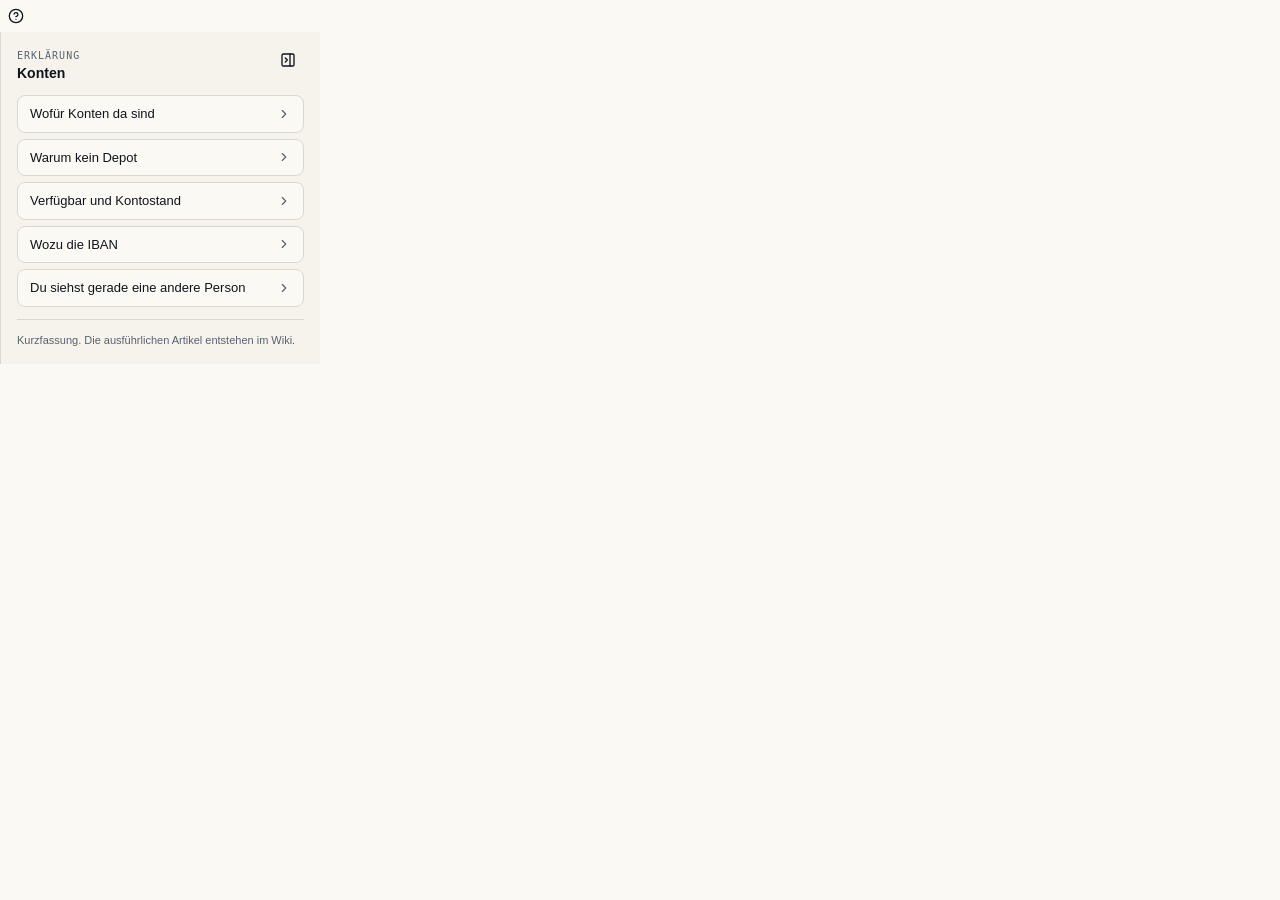
Scenario: the help button › narrow: the open default still opens the sheet, and offers no pin
The image size is (1280, 900).
Click the button named "Hilfe". click: (16, 16)
box: [0, 0, 32, 32]
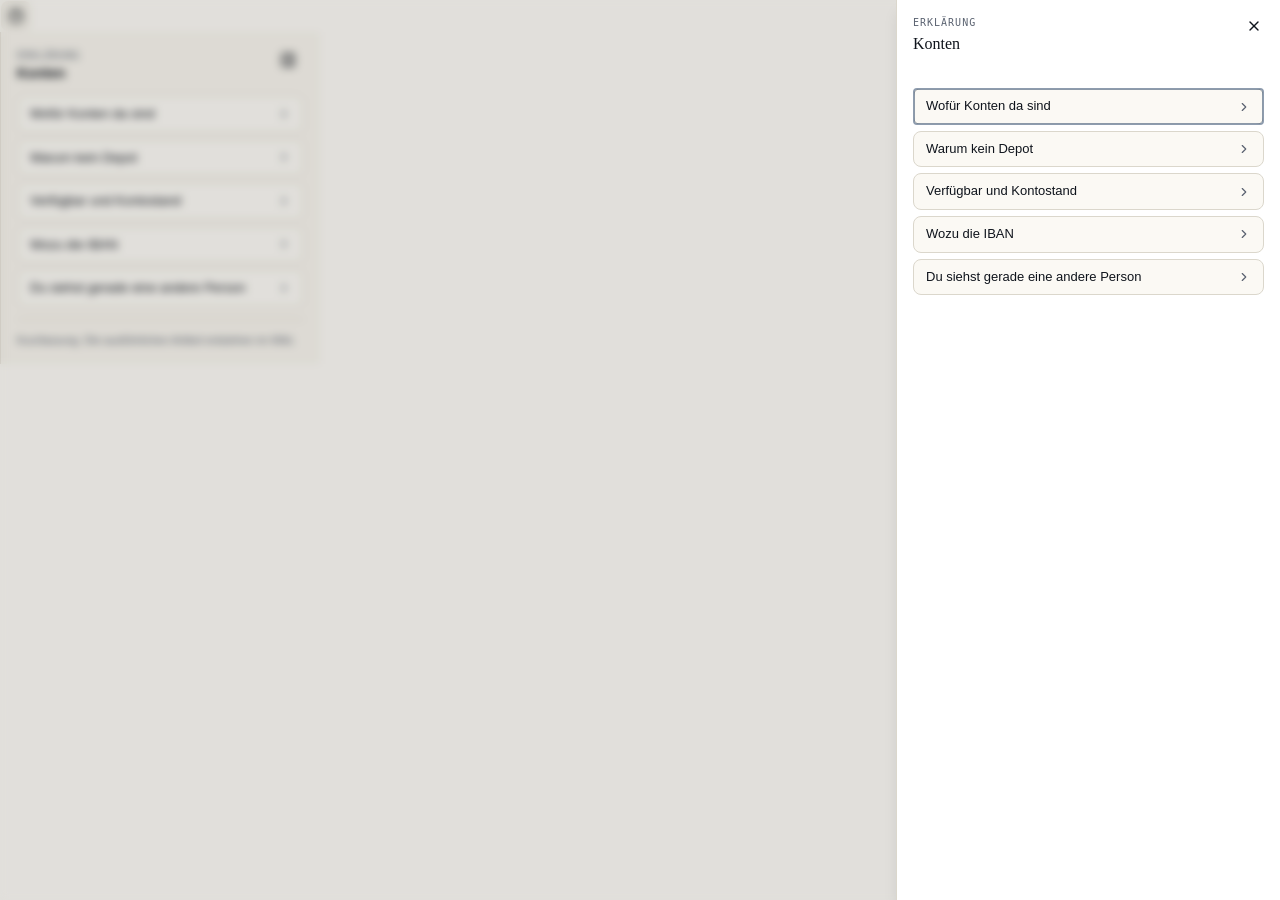
expect the dialog is shown: met, box [896, 0, 1279, 899]
